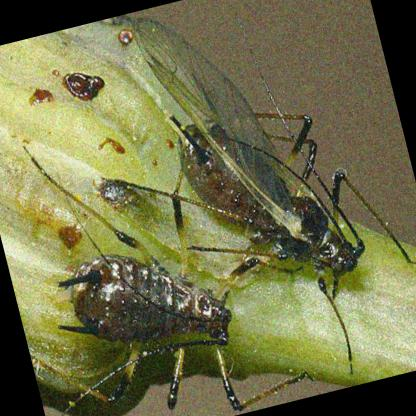uroleucon compositae: (129, 19, 367, 300), (26, 148, 239, 412)
